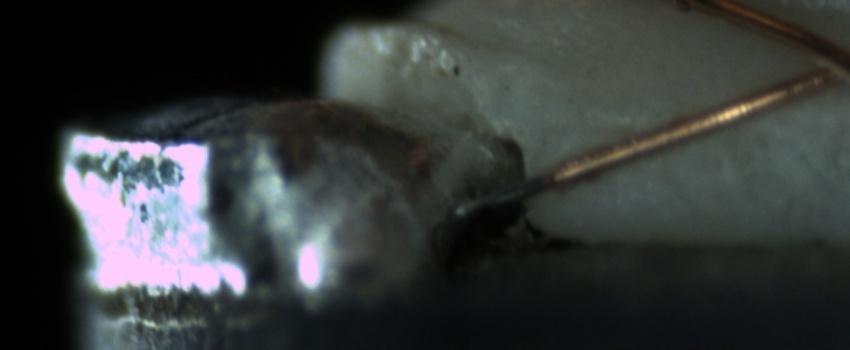CL: (795, 28, 849, 94)
TS: (447, 172, 549, 218)
TTCW: (439, 155, 586, 218)
